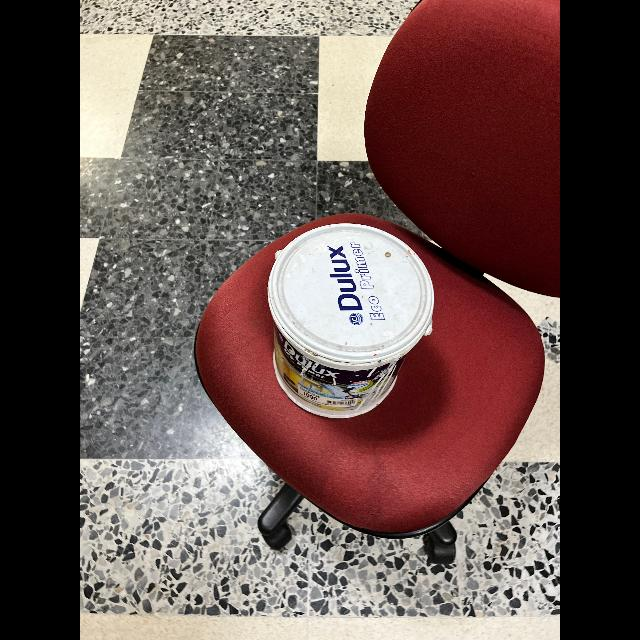paint_bucket: (256, 211, 434, 427)
